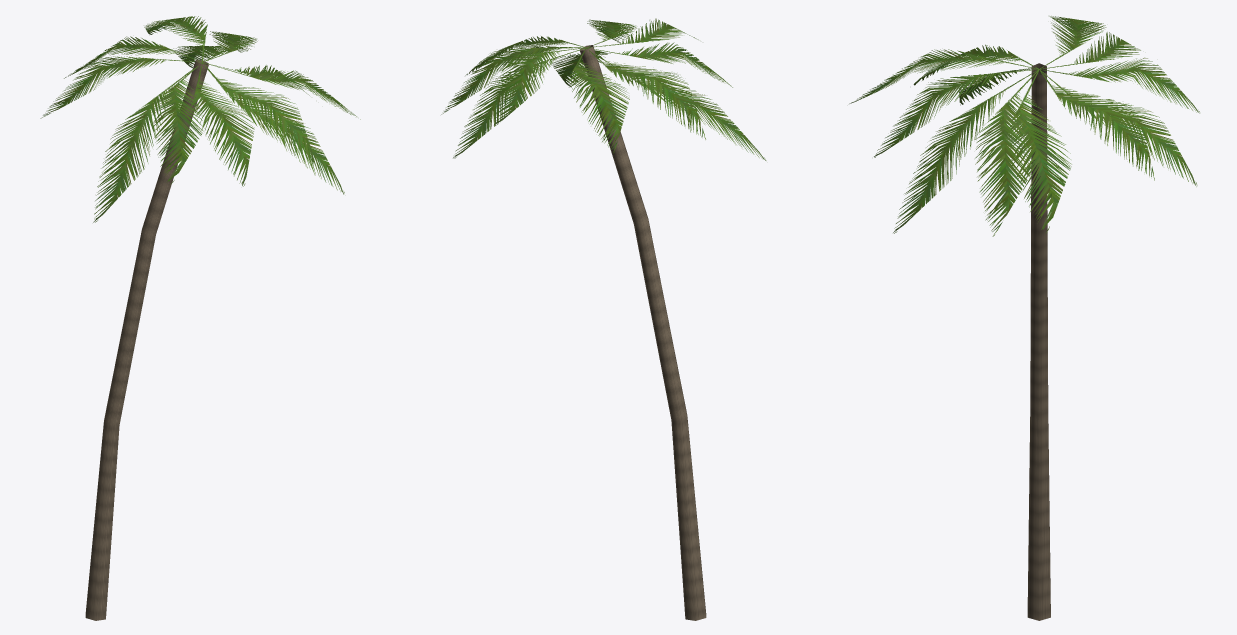
File: CoconutPalm_LOD1.fbx
The picture shows the model from 3 angles, left to right: view 1: azimuth 30°, elevation 25°; view 2: azimuth 150°, elevation 25°; view 3: azimuth 270°, elevation 25°; orthographic projection. The views are drawn at different scales.
Parts seen in each view (by area): view 1: CoconutPalm_LOD1; view 2: CoconutPalm_LOD1; view 3: CoconutPalm_LOD1.
Part boxes in pixels (bbox=[...]): CoconutPalm_LOD1: bbox=[40, 16, 360, 620]; CoconutPalm_LOD1: bbox=[441, 18, 766, 620]; CoconutPalm_LOD1: bbox=[849, 16, 1199, 620].
Size of the model in its own units: 9.13 by 14.44 by 8.54.
Materials: 1 (1 with a texture image).
